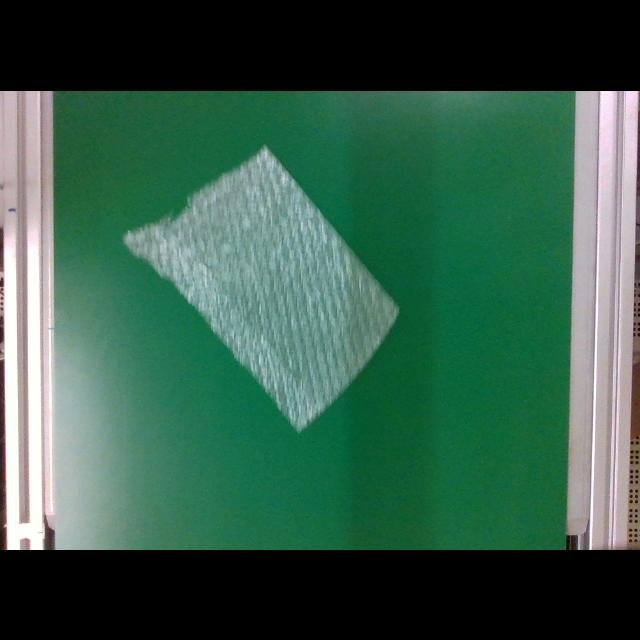scrap_plastic: (119, 141, 404, 433)
